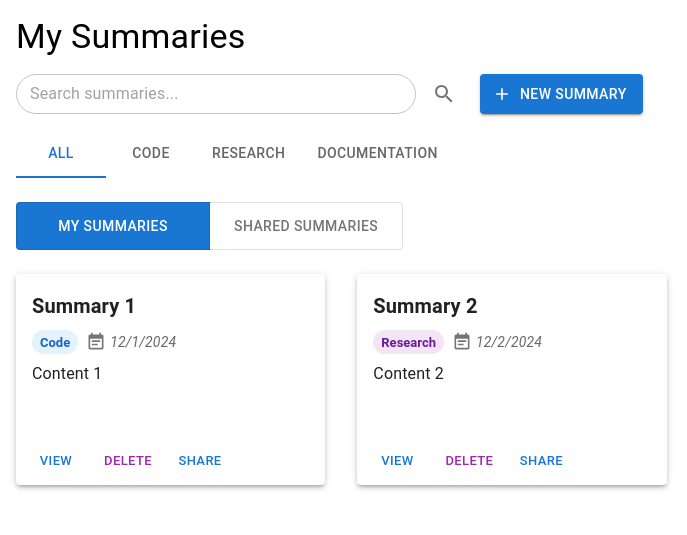
Test: SummariesList Component › preserves view type when reloading summaries
Expected: the heading "Summary 1" is shown, [32,294,136,318]
Click the button "Shared Summaries". click: (306, 226)
box: [209,202,403,250]
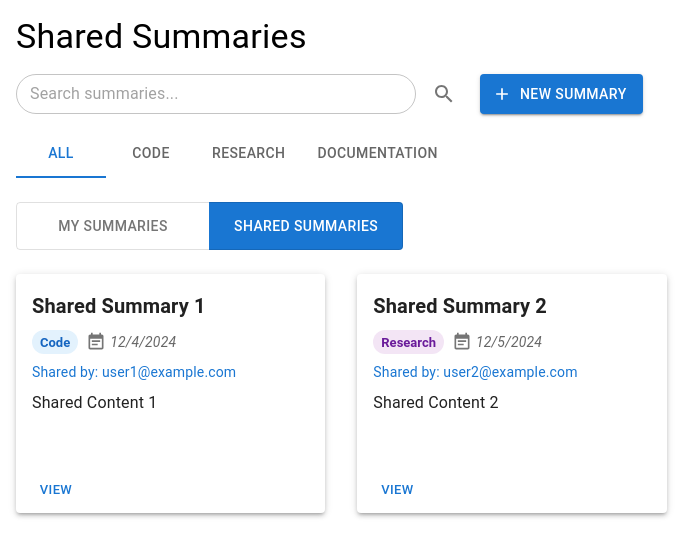
Expected: the heading "Shared Summary 1" is shown, [32,294,206,318]
Expected: the heading "Shared Summaries" is shown, [16,16,307,56]
